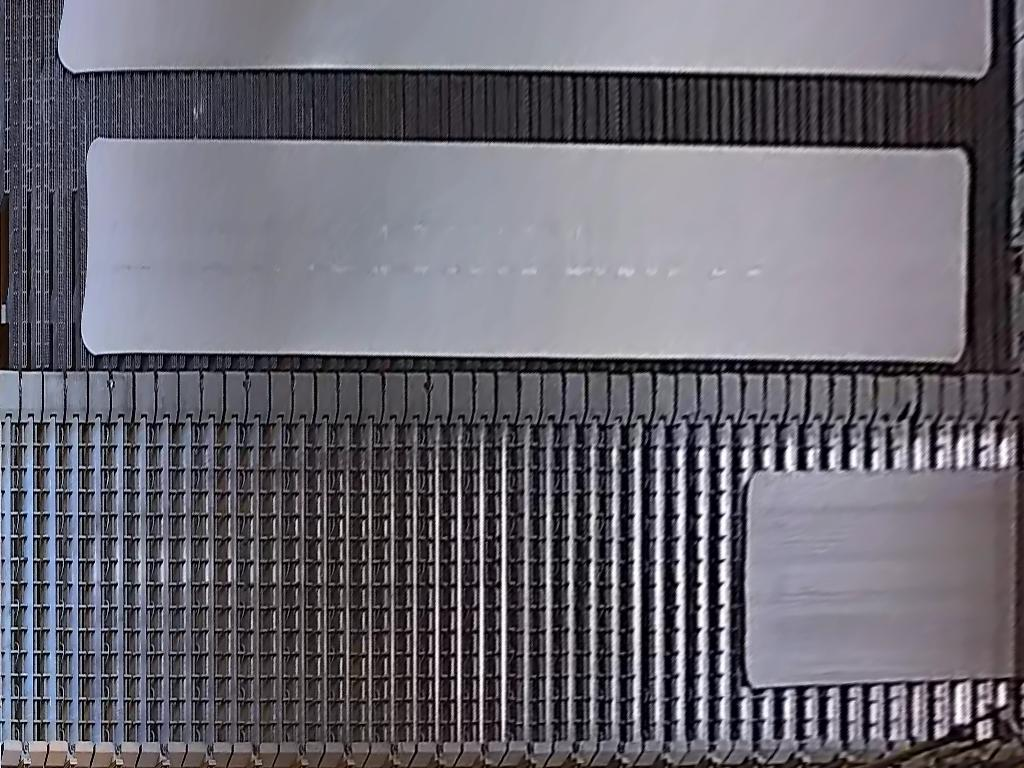steel: (79, 136, 968, 364), (51, 1, 990, 79), (747, 468, 1024, 689)
